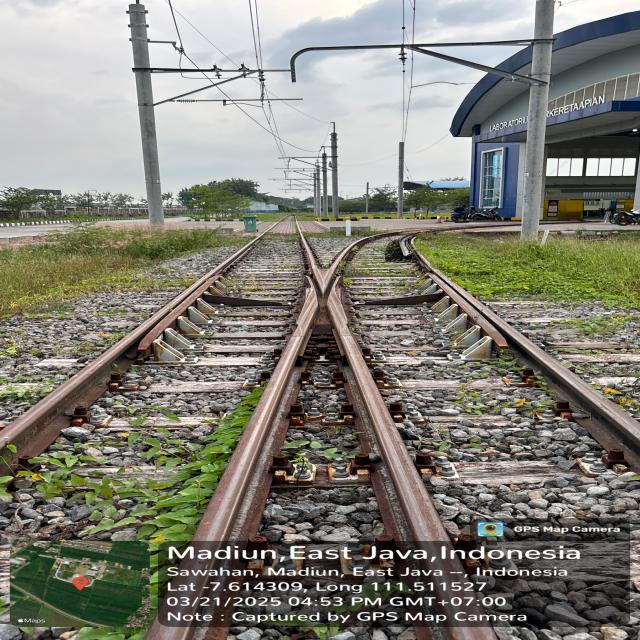rail-detection: (0, 228, 270, 450), (413, 249, 640, 468), (327, 290, 461, 602), (0, 281, 203, 460), (194, 290, 319, 540), (322, 231, 400, 299), (301, 237, 339, 312), (415, 606, 495, 640), (295, 218, 306, 249)
